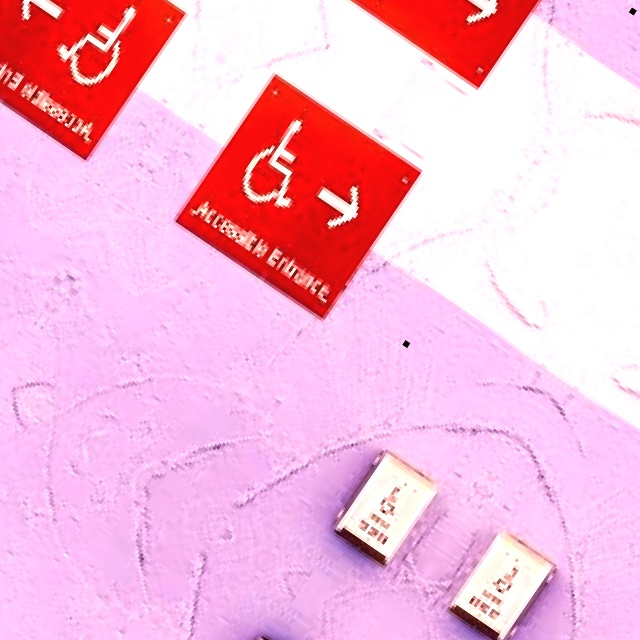ISA: (231, 109, 331, 219), (49, 0, 149, 95), (370, 0, 470, 15), (373, 480, 408, 518), (491, 561, 526, 598)
